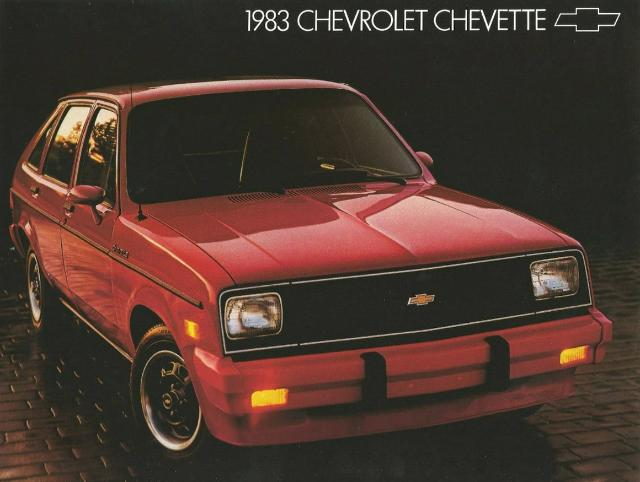chevette-1983: (9, 78, 611, 462)
